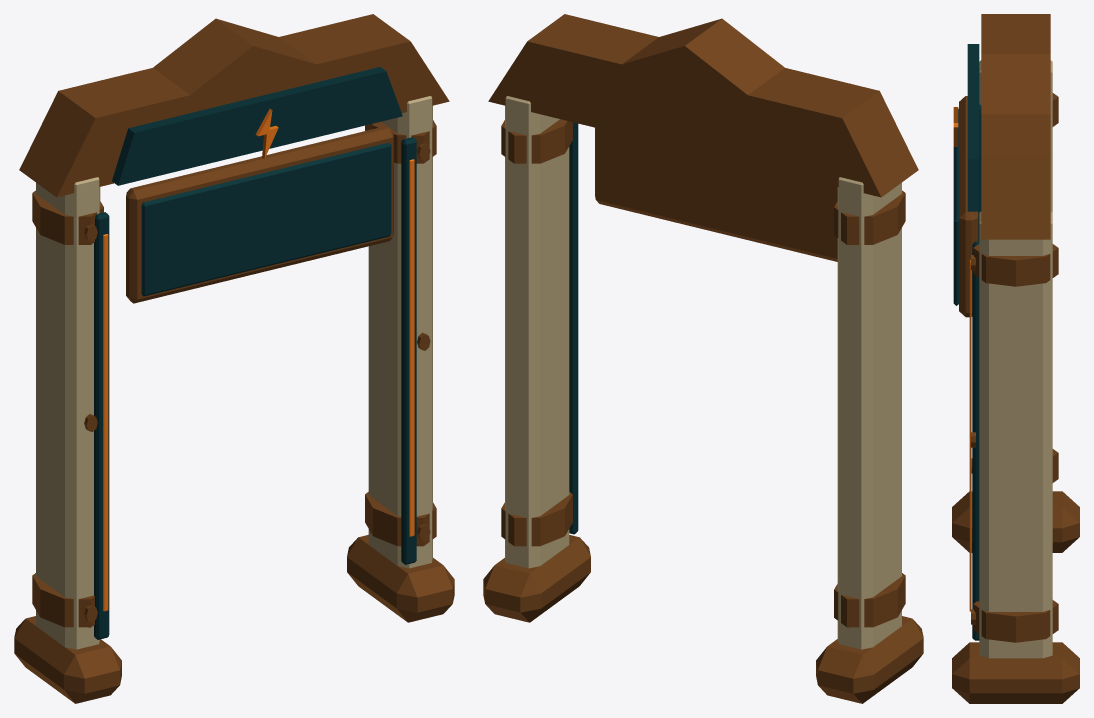
File: gate-energy.glb
3 views of the same model, side by side, from view 1: azimuth 30°, elevation 25°; view 2: azimuth 150°, elevation 25°; view 3: azimuth 270°, elevation 25° (orthographic). The views are drawn at different scales.
Visible parts, largest first — view 1: gate-energy; view 2: gate-energy; view 3: gate-energy.
Part boxes in pixels (x1,y1,x2,y2): gate-energy: (14, 14, 454, 703); gate-energy: (483, 14, 923, 703); gate-energy: (952, 14, 1079, 703).
Size of the model in its own units: 2.18 by 3.23 by 0.66.
Materials: 1 (1 with a texture image).
